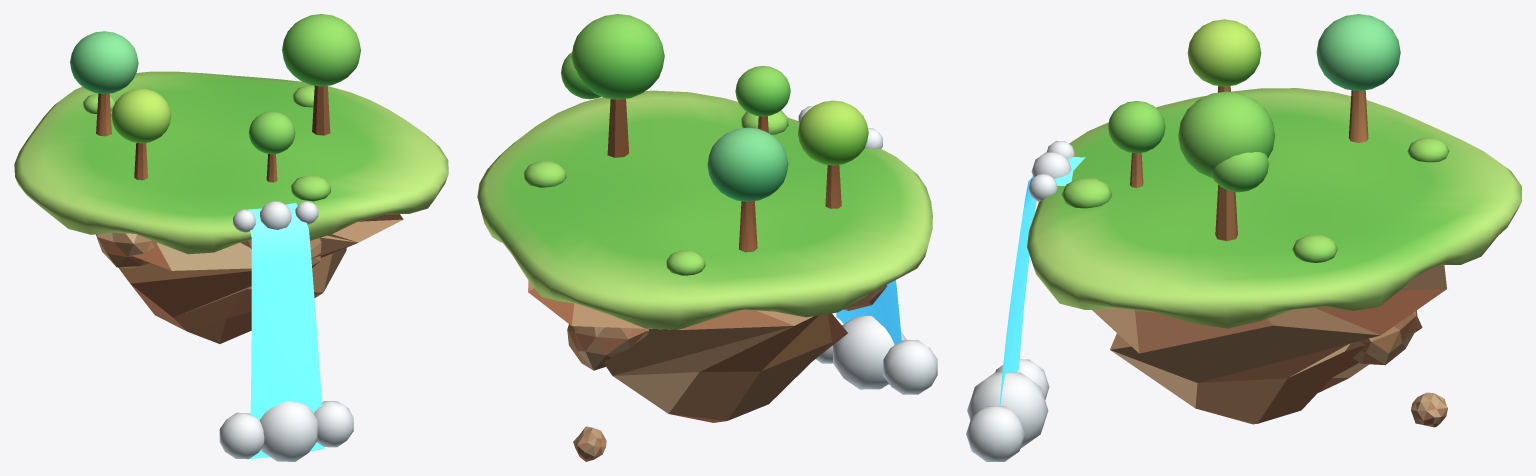
Rendered from island_a.glb.
3 renders of one model, left to right at view 1: azimuth 30°, elevation 25°; view 2: azimuth 150°, elevation 25°; view 3: azimuth 270°, elevation 25°, orthographic. The views are drawn at different scales.
Visible parts, largest first — view 1: Island; view 2: Island; view 3: Island.
Part boxes in pixels (left/top/right/bottom): Island: left=14, top=14, right=448, bottom=461; Island: left=477, top=14, right=937, bottom=461; Island: left=966, top=14, right=1521, bottom=461.
Bounding box in the file's own units: 27.8 × 25.7 × 30.43.
